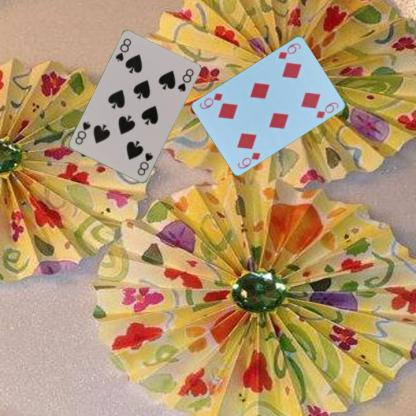6d: (235, 149, 262, 170), (276, 40, 302, 60)
8s: (135, 150, 154, 178), (113, 36, 132, 63)
